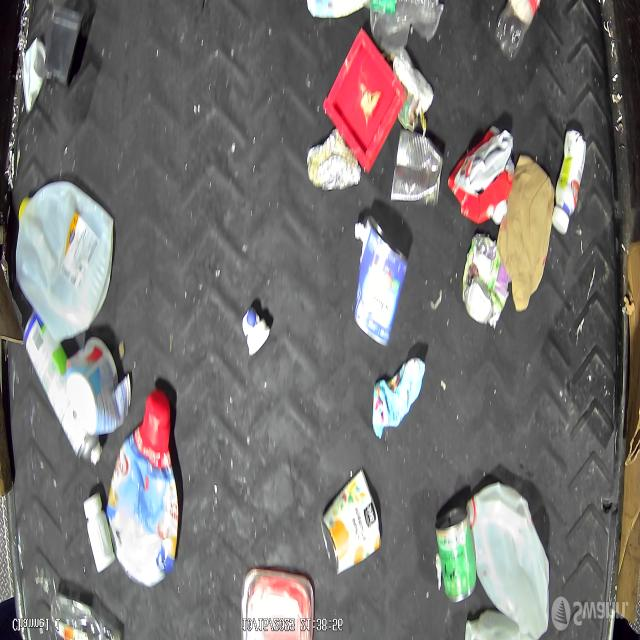can: (22, 308, 104, 468), (354, 215, 410, 350), (320, 469, 384, 577), (460, 232, 511, 332), (391, 126, 444, 210), (434, 504, 478, 605), (20, 35, 46, 117)
milk_jug: (15, 181, 115, 342), (466, 482, 550, 638)
plastic_bottle: (494, 0, 541, 63)
